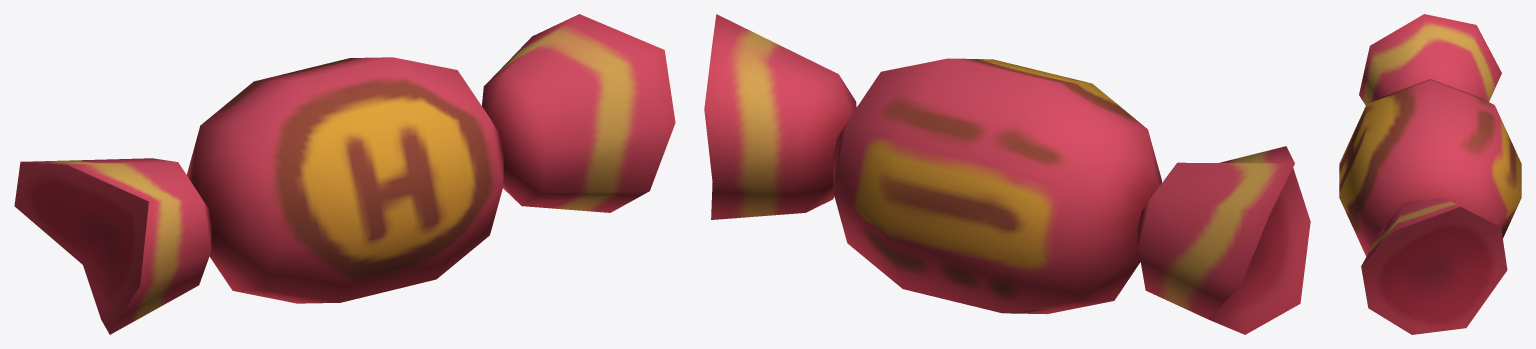
The model's file is candy03.fbx.
3 views of the same model, side by side, from view 1: azimuth 30°, elevation 25°; view 2: azimuth 150°, elevation 25°; view 3: azimuth 270°, elevation 25° (orthographic). The views are drawn at different scales.
Visible parts, largest first — view 1: candy03; view 2: candy03; view 3: candy03.
Boxes of the visible parts, x1,y1,x2,y2 form: candy03: [14, 14, 675, 334]; candy03: [704, 14, 1310, 334]; candy03: [1339, 14, 1521, 334].
Bounding box in the file's own units: 40.27 × 14.57 × 14.57.
